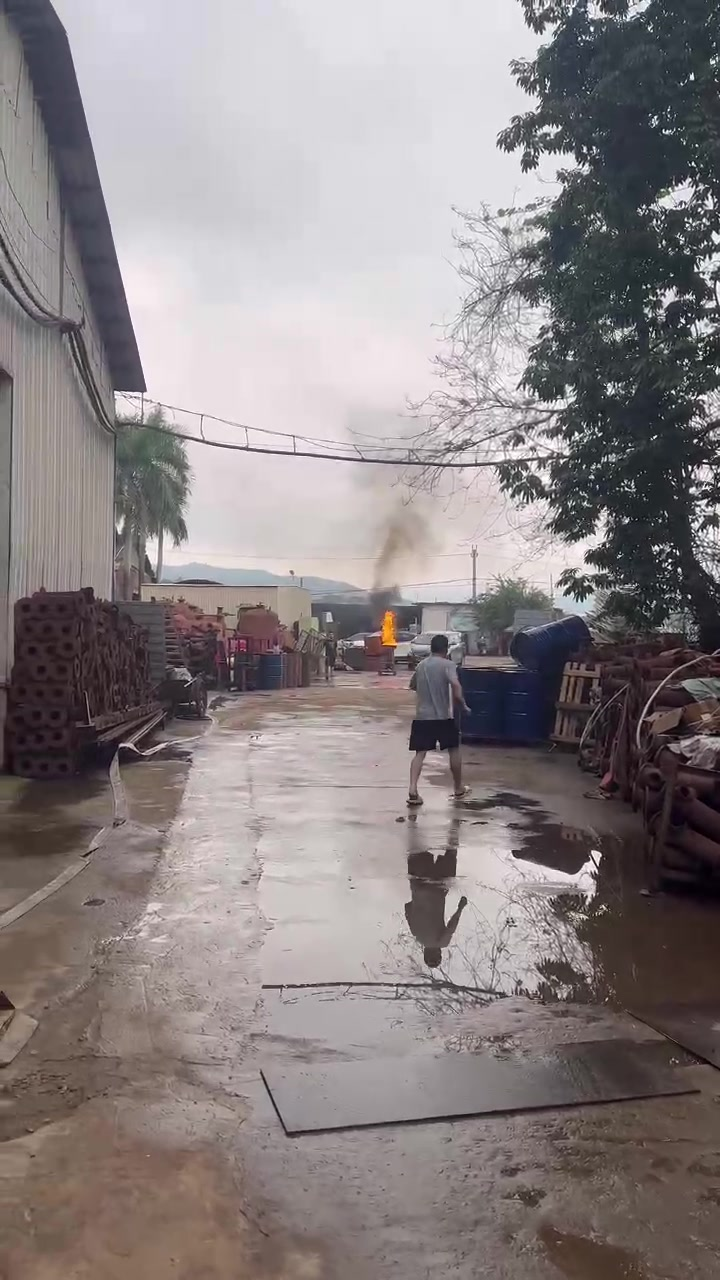fire: (381, 611, 397, 645)
